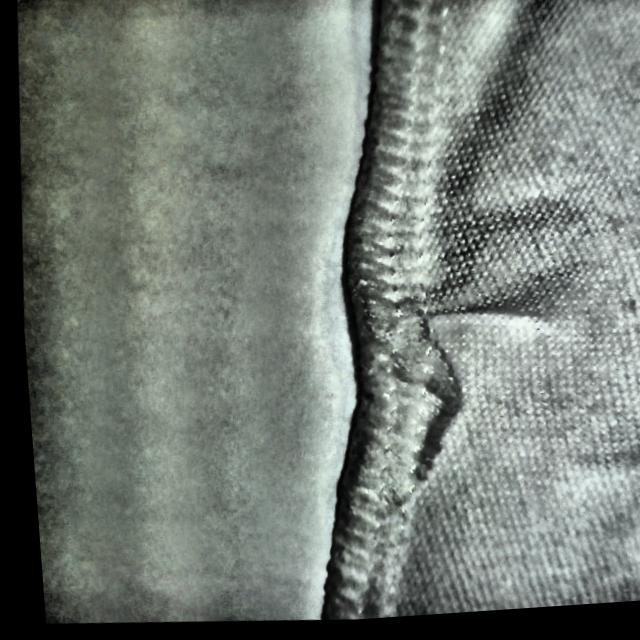seam: (336, 274, 530, 470)
